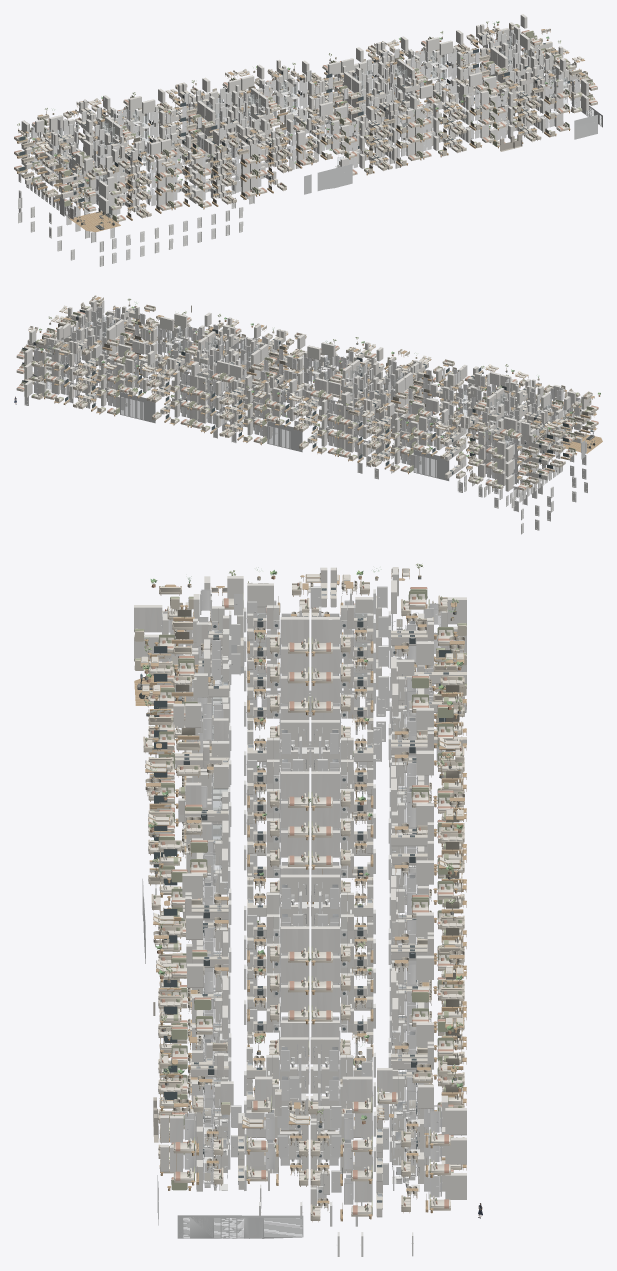
The model's file is apolo_mobiliario.glb.
3 renders of one model, top to bottom at view 1: azimuth 30°, elevation 25°; view 2: azimuth 150°, elevation 25°; view 3: azimuth 270°, elevation 25°, orthographic. The views are drawn at different scales.
Visible parts, largest first — view 1: mob__T4__Y5__V4_Casco_blanco_roto__y16.64, mob__T2__Y6__V4_Casco_blanco_roto__y18.04, mob__T0__Y6__V4_Casco_blanco_roto__y19.44, puerta__T3__Y2__APOLO V6 | Aluminio plata grata__y6.09, mob__T6__Y4__V4_Casco_blanco_roto__y12.24, mob__T2__Y5__V4_Casco_blanco_roto__y15.04, puerta__T7__Y1__APOLO V6 | Aluminio plata grata__y3.41, mob__T4__Y4__V4_Casco_blanco_roto__y13.64, puerta__T4__Y5__APOLO | Lacado blanco satinado__y15.86, mob__T0__Y5__V4_Casco_blanco_roto__y16.44, mob__T1__Y3__Gym_roble_claro__y9.45, puerta__T0__Y6__APOLO | Lacado blanco satinado__y18.66 (+60 smaller); view 2: mob__T4__Y5__V4_Casco_blanco_roto__y16.64, mob__T2__Y6__V4_Casco_blanco_roto__y18.04, puerta__T0__Y2__APOLO | Lacado blanco satinado__y7.04, mob__T0__Y6__V4_Casco_blanco_roto__y19.44, puerta__T0__Y2__APOLO V6 | Aluminio plata grata__y8.44, puerta__T2__Y2__APOLO V6 | Aluminio plata grata__y7.04, puerta__T4__Y1__APOLO V6 | Aluminio plata grata__y5.64, mob__T4__Y5__V4_Frente_blanco_roto_mate__y16.69, mob__T6__Y4__V4_Casco_blanco_roto__y12.24, mob__T4__Y4__V4_Casco_blanco_roto__y13.64, mob__T2__Y6__V4_Frente_blanco_roto_mate__y18.09, mob__T5__Y5__V4_Casco_blanco_roto__y15.86 (+65 smaller); view 3: mob__T2__Y6__V4_Casco_blanco_roto__y18.04, mob__T4__Y5__V4_Casco_blanco_roto__y16.64, puerta__T7__Y1__APOLO V6 | Aluminio plata grata__y3.41, mob__T6__Y4__V4_Casco_blanco_roto__y12.24, mob__T0__Y6__V4_Casco_blanco_roto__y19.44, mob__T6__Y3__V4_Casco_blanco_roto__y9.24, mob__T5__Y5__V4_Casco_blanco_roto__y15.86, mob__T3__Y5__V4_Casco_blanco_roto__y17.26, mob__T0__Y5__V4_Frente_blanco_roto_mate__y16.49, puerta__T0__Y2__APOLO | Lacado blanco satinado__y7.04, puerta__T6__Y3__APOLO V6 | Puertas interiores lacado blanco_, mob__T6__Y4__Tela_lino_marfil__y12.02 (+48 smaller).
Part boxes in pixels (x1=…): mob__T4__Y5__V4_Casco_blanco_roto__y16.64: x1=282, y1=36, x2=439, y2=100; mob__T2__Y6__V4_Casco_blanco_roto__y18.04: x1=142, y1=59, x2=290, y2=129; mob__T0__Y6__V4_Casco_blanco_roto__y19.44: x1=35, y1=95, x2=141, y2=155; puerta__T3__Y2__APOLO V6 | Aluminio plata grata__y6.09: x1=304, y1=164, x2=352, y2=194; mob__T6__Y4__V4_Casco_blanco_roto__y12.24: x1=433, y1=22, x2=563, y2=75; mob__T2__Y5__V4_Casco_blanco_roto__y15.04: x1=136, y1=75, x2=283, y2=143; puerta__T7__Y1__APOLO V6 | Aluminio plata grata__y3.41: x1=571, y1=99, x2=602, y2=139; mob__T4__Y4__V4_Casco_blanco_roto__y13.64: x1=284, y1=47, x2=432, y2=111; puerta__T4__Y5__APOLO | Lacado blanco satinado__y15.86: x1=306, y1=48, x2=399, y2=100; mob__T0__Y5__V4_Casco_blanco_roto__y16.44: x1=21, y1=105, x2=134, y2=173; mob__T1__Y3__Gym_roble_claro__y9.45: x1=69, y1=211, x2=120, y2=232; puerta__T0__Y6__APOLO | Lacado blanco satinado__y18.66: x1=57, y1=107, x2=111, y2=155; mob__T4__Y5__V4_Casco_blanco_roto__y16.64: x1=133, y1=331, x2=277, y2=393; mob__T2__Y6__V4_Casco_blanco_roto__y18.04: x1=270, y1=359, x2=424, y2=416; puerta__T0__Y2__APOLO | Lacado blanco satinado__y7.04: x1=457, y1=457, x2=562, y2=507; mob__T0__Y6__V4_Casco_blanco_roto__y19.44: x1=426, y1=387, x2=549, y2=435; puerta__T0__Y2__APOLO V6 | Aluminio plata grata__y8.44: x1=413, y1=450, x2=449, y2=480; puerta__T2__Y2__APOLO V6 | Aluminio plata grata__y7.04: x1=267, y1=421, x2=302, y2=452; puerta__T4__Y1__APOLO V6 | Aluminio plata grata__y5.64: x1=120, y1=392, x2=155, y2=423; mob__T4__Y5__V4_Frente_blanco_roto_mate__y16.69: x1=132, y1=341, x2=268, y2=388; mob__T6__Y4__V4_Casco_blanco_roto__y12.24: x1=24, y1=307, x2=128, y2=377; mob__T4__Y4__V4_Casco_blanco_roto__y13.64: x1=125, y1=346, x2=271, y2=406; mob__T2__Y6__V4_Frente_blanco_roto_mate__y18.09: x1=292, y1=361, x2=423, y2=416; mob__T5__Y5__V4_Casco_blanco_roto__y15.86: x1=174, y1=312, x2=320, y2=359; mob__T2__Y6__V4_Casco_blanco_roto__y18.04: x1=247, y1=683, x2=433, y2=845; mob__T4__Y5__V4_Casco_blanco_roto__y16.64: x1=247, y1=841, x2=433, y2=1003; puerta__T7__Y1__APOLO V6 | Aluminio plata grata__y3.41: x1=157, y1=1126, x2=303, y2=1238; mob__T6__Y4__V4_Casco_blanco_roto__y12.24: x1=246, y1=1037, x2=466, y2=1151; mob__T0__Y6__V4_Casco_blanco_roto__y19.44: x1=247, y1=567, x2=433, y2=689; mob__T6__Y3__V4_Casco_blanco_roto__y9.24: x1=246, y1=1066, x2=466, y2=1181; mob__T5__Y5__V4_Casco_blanco_roto__y15.86: x1=182, y1=848, x2=228, y2=1011; mob__T3__Y5__V4_Casco_blanco_roto__y17.26: x1=173, y1=703, x2=229, y2=854; mob__T0__Y5__V4_Frente_blanco_roto_mate__y16.49: x1=280, y1=600, x2=466, y2=694; puerta__T0__Y2__APOLO | Lacado blanco satinado__y7.04: x1=261, y1=690, x2=464, y2=767; puerta__T6__Y3__APOLO V6 | Puertas interiores lacado blanco_: x1=265, y1=1056, x2=441, y2=1163; mob__T6__Y4__Tela_lino_marfil__y12.02: x1=242, y1=1035, x2=462, y2=1146.
Bounding box in the file's own units: 111 × 20.7 × 32.23.
Materials: 75 (4 with a texture image).
